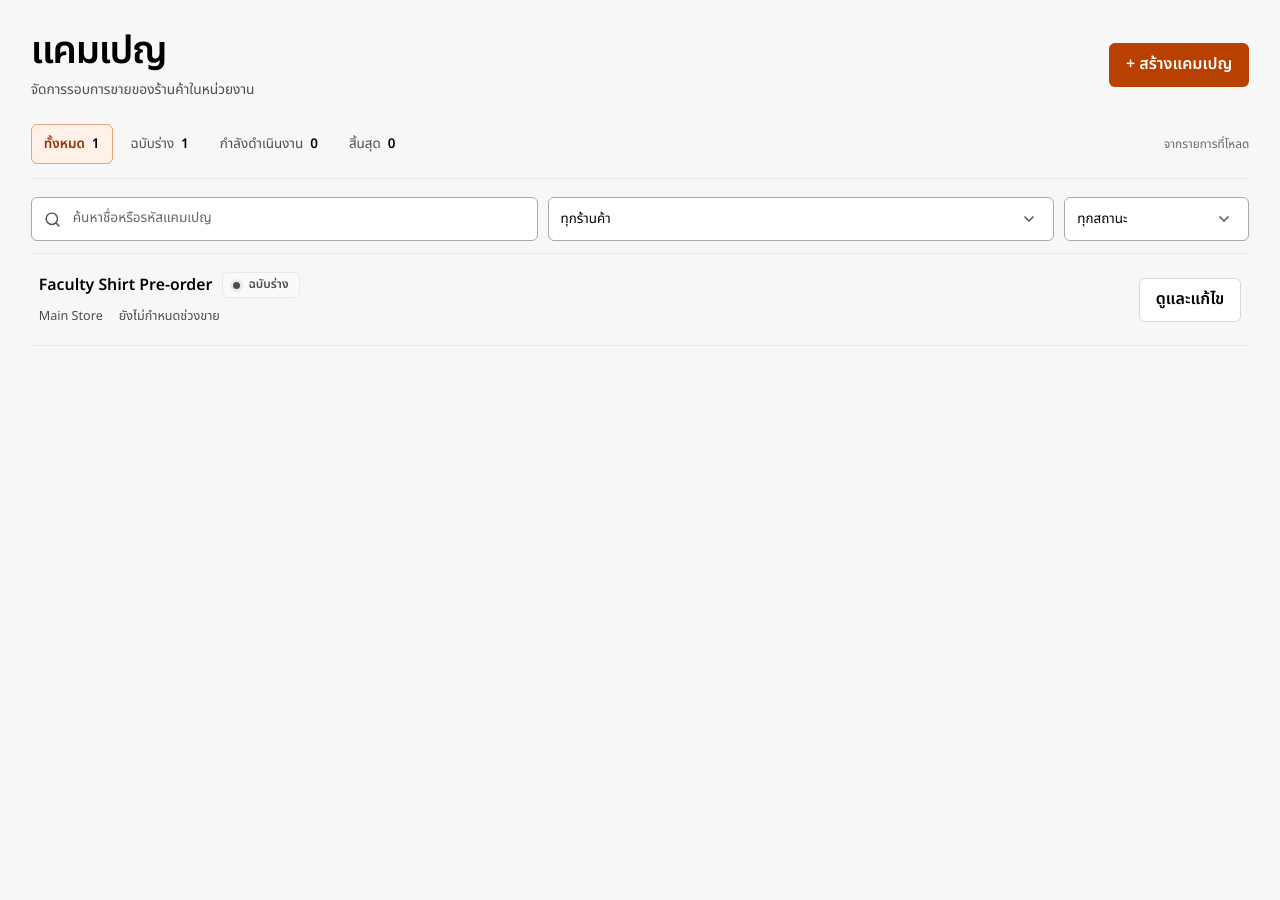
Test: CampaignManagementView › creates a DRAFT campaign using nullable planning timestamps
The image size is (1280, 900).
Expected: the heading "Faculty Shirt Pre-order" is shown, [39,272,212,298]
Click the button "+ สร้างแคมเปญ": coordinates (1179, 65) [1109,43,1249,87]
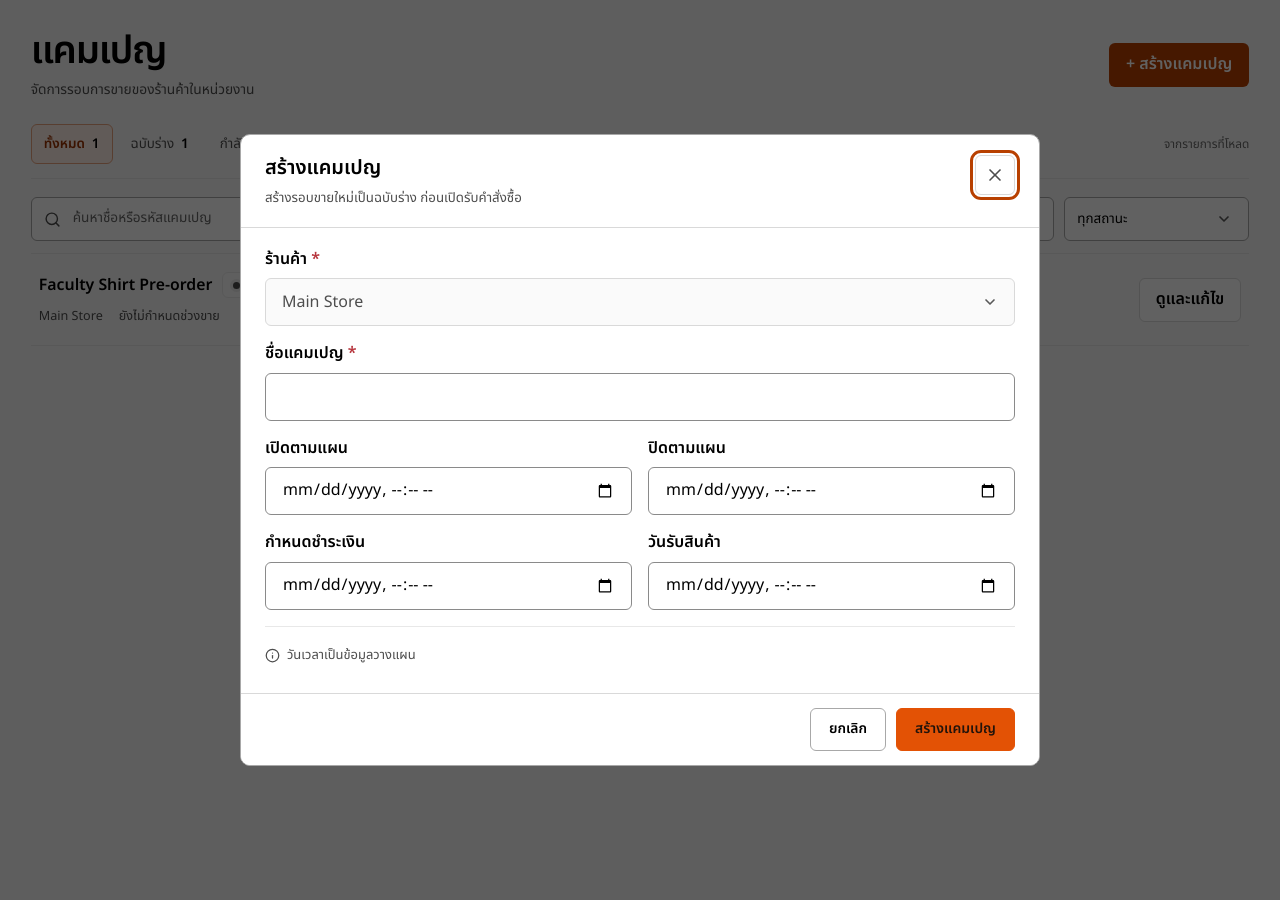
In the field labelled "ชื่อแคมเปญ": coordinates (640, 397) [265,373,1015,421], type "  New Campaign  "
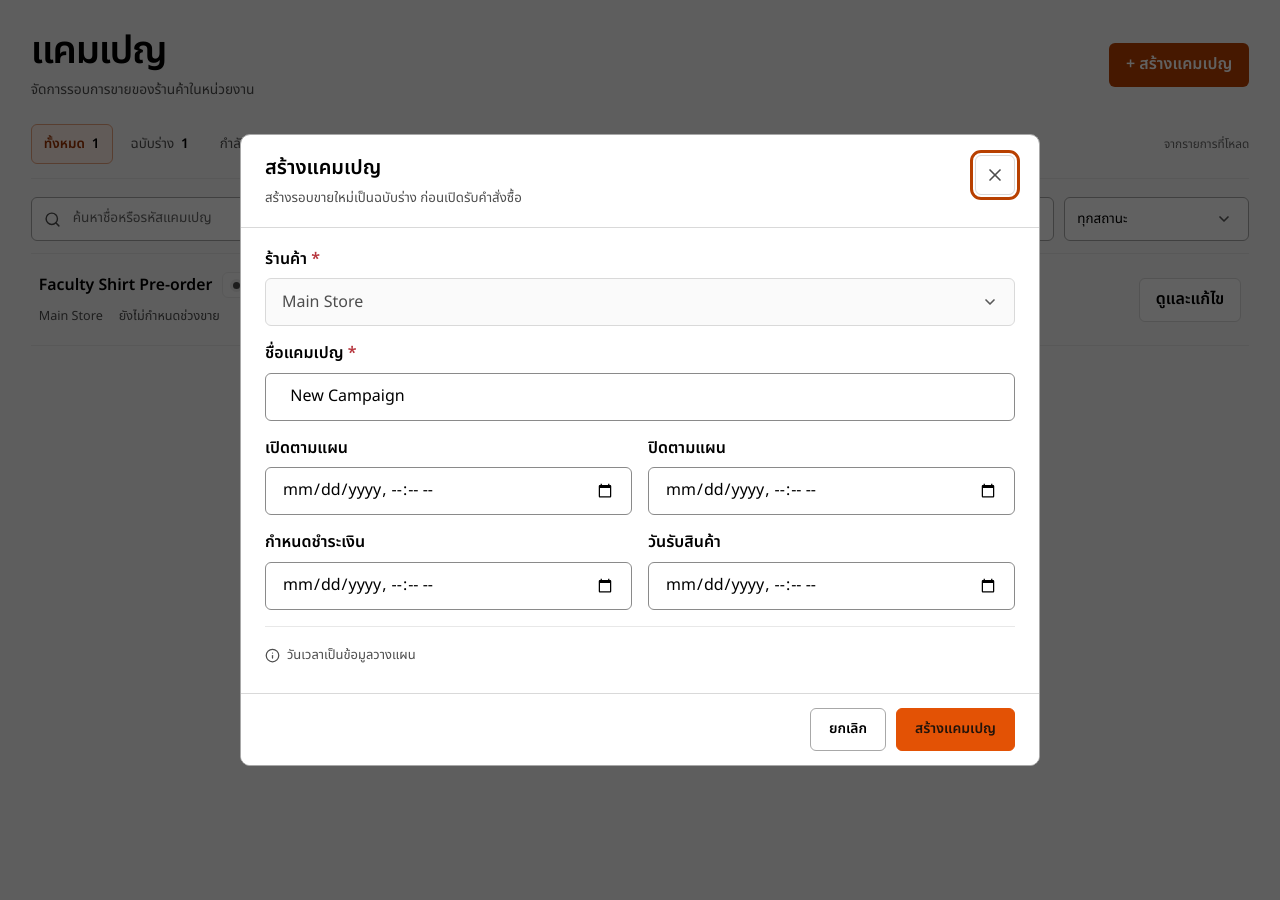
Click the button "สร้างแคมเปญ": coordinates (956, 729) [896,708,1015,751]
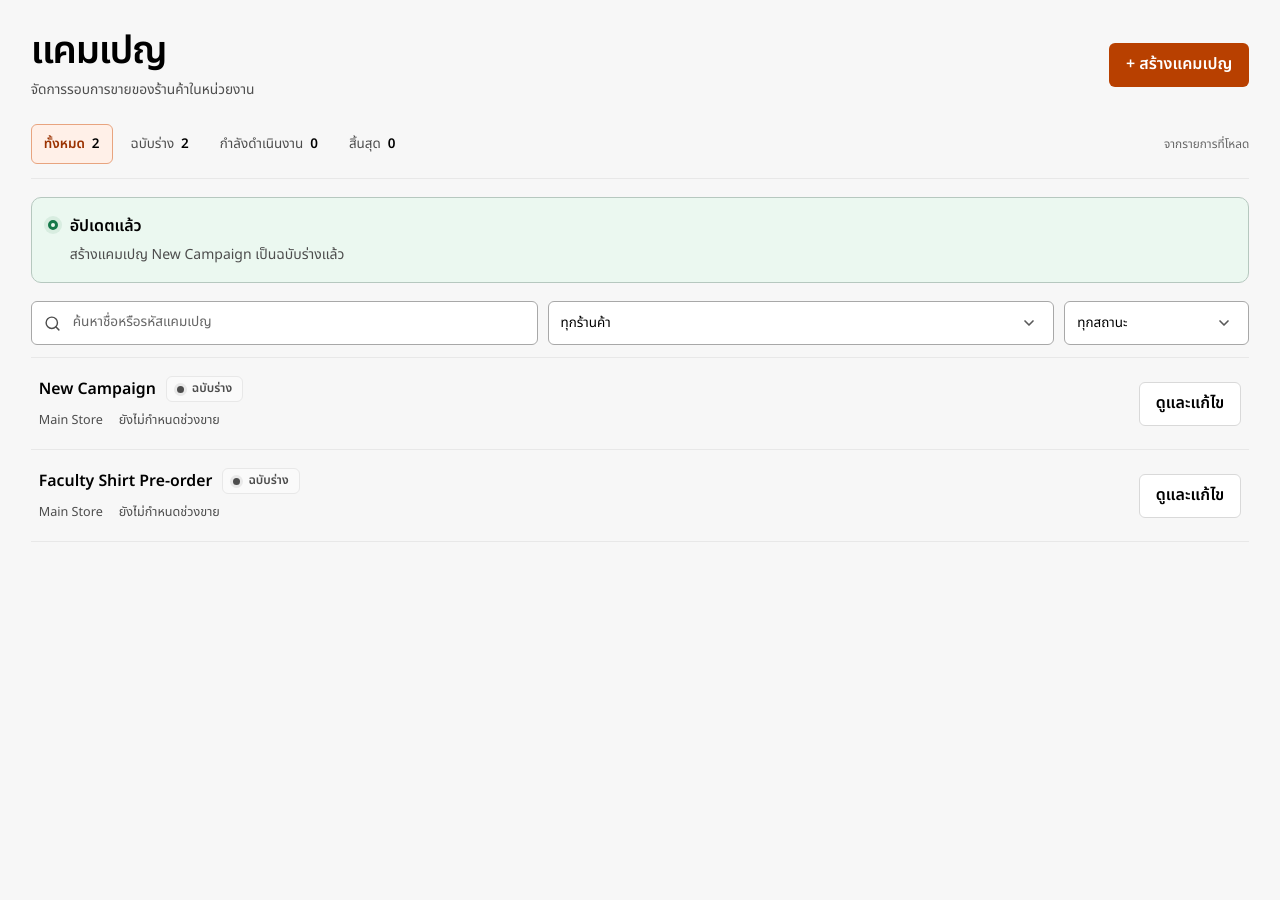
Now the text "สร้างแคมเปญ New Campaign เป็นฉบับร่างแล้ว" is shown, box [70,244,344,265]
